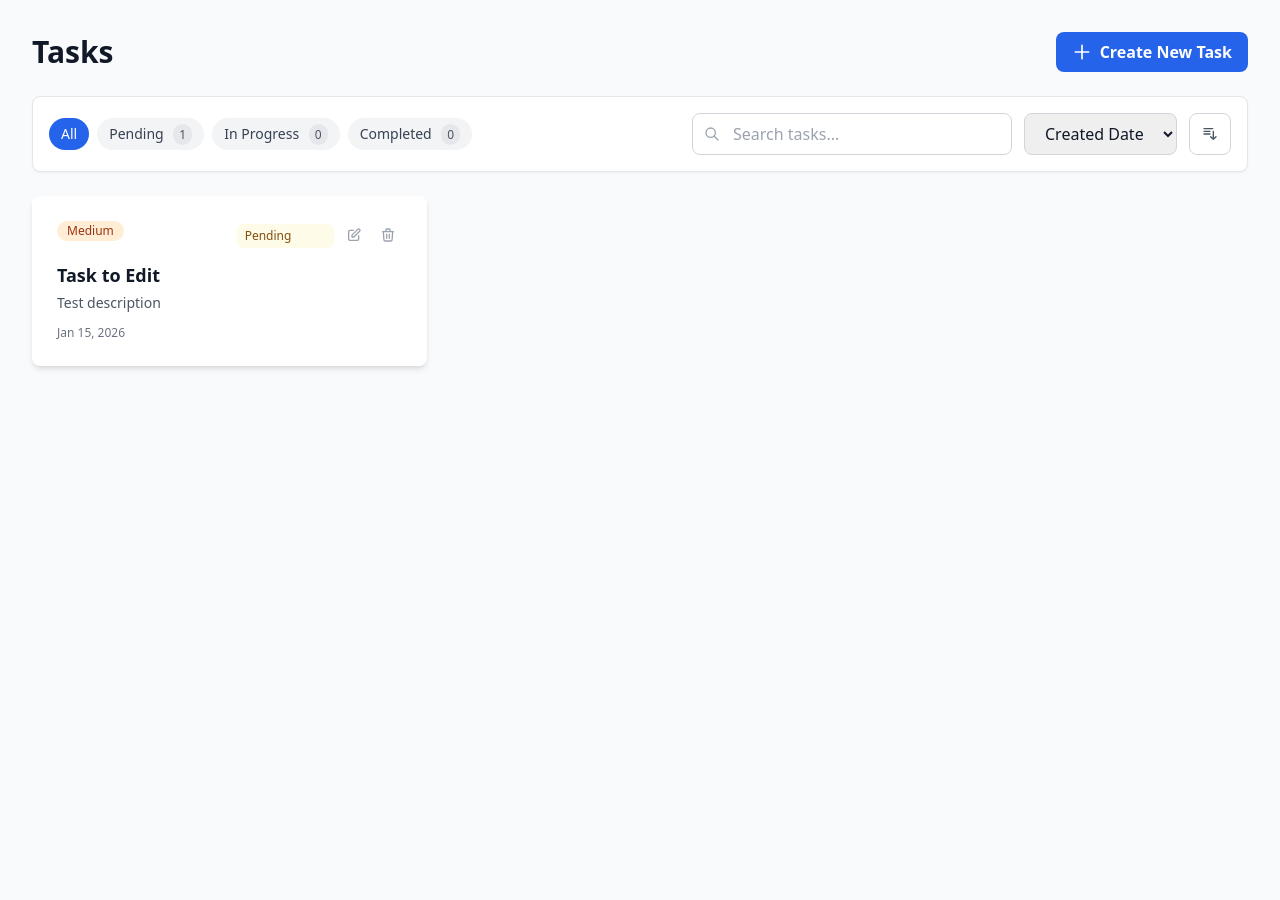
TasksView › should open edit modal when task card clicked
Click the element with test id "task-card" at (229, 281), box [32,196,427,366]
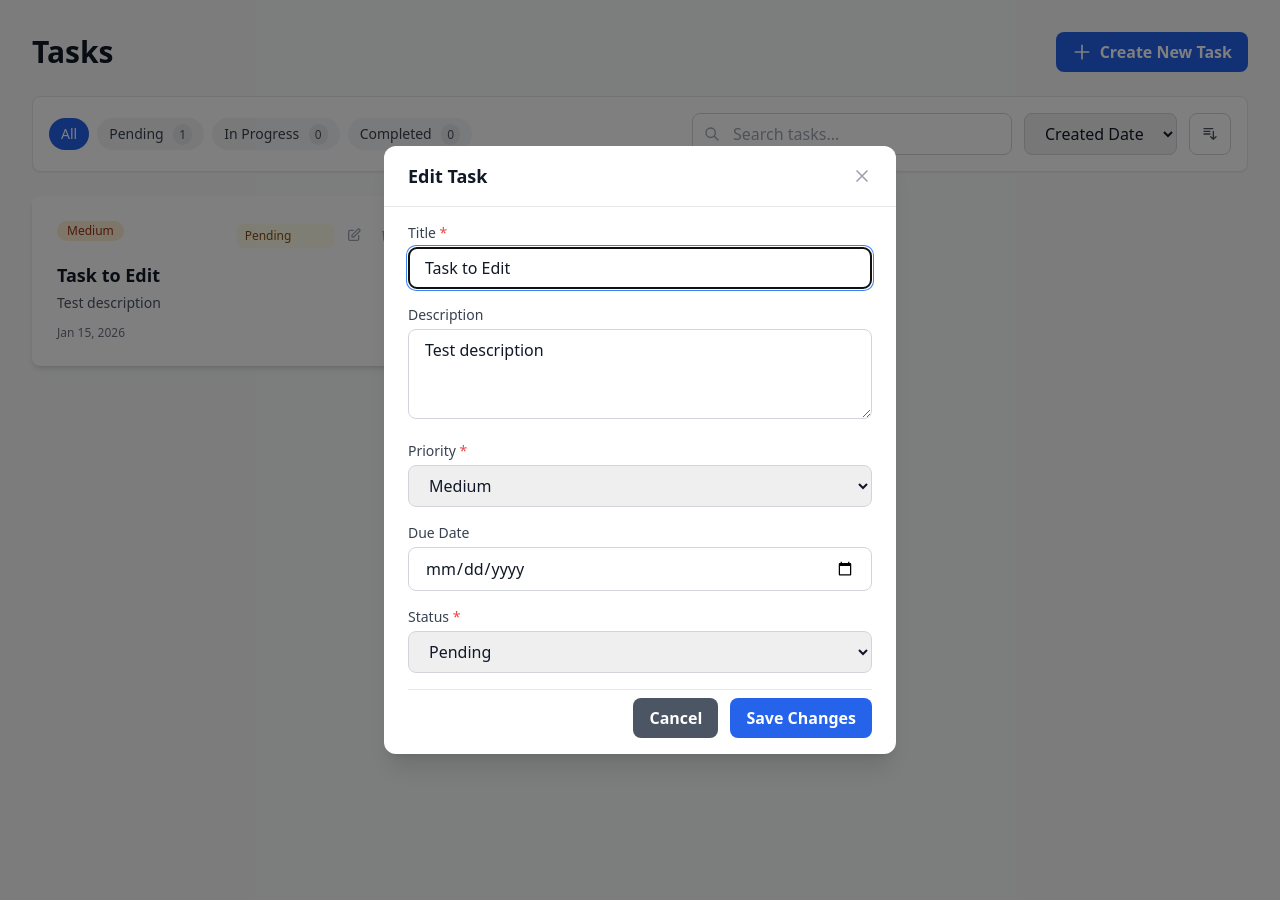
Result: the text "Edit Task" is shown at [408,162,487,190]
Result: the dialog is shown at [384,146,896,754]
Result: the field with id "task-title" holds "Task to Edit" at [408,247,872,289]
